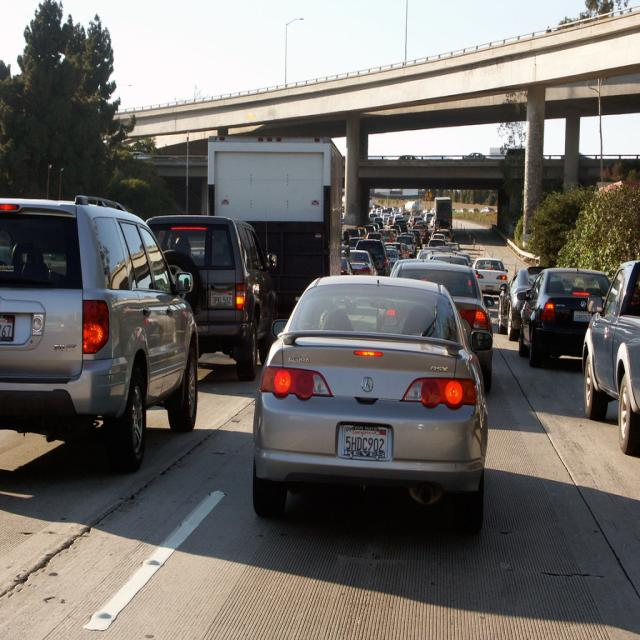car: (241, 272, 491, 528)
